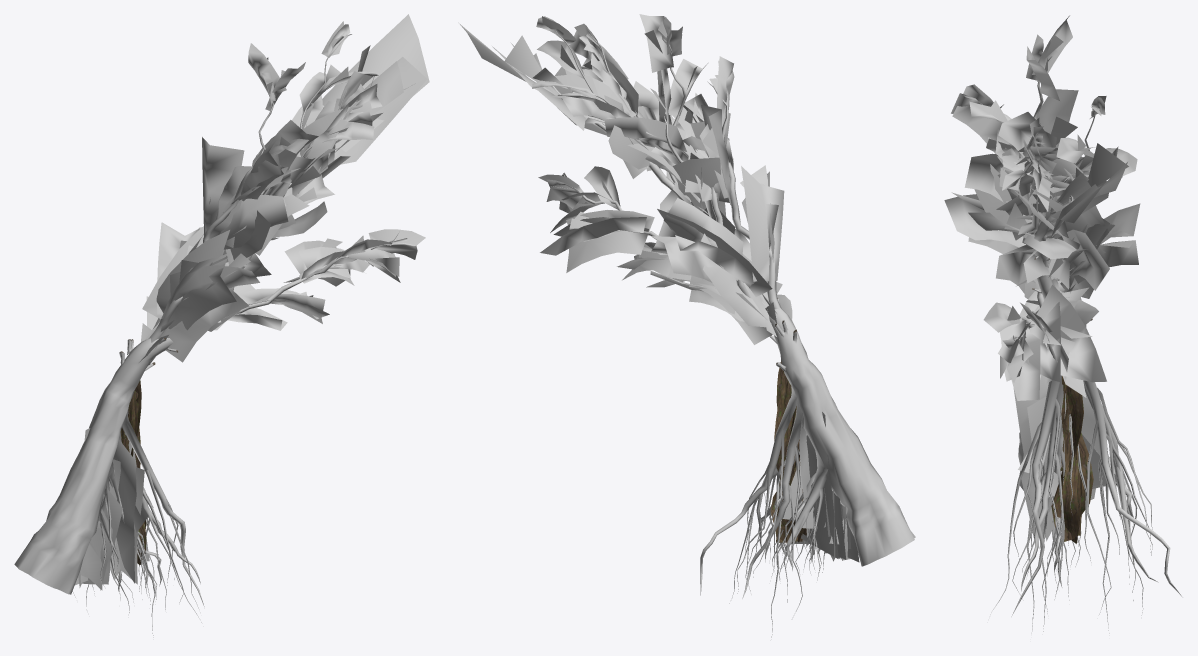
The model's file is Tree_05_2_L2.fbx.
The picture shows the model from 3 angles, left to right: view 1: azimuth 30°, elevation 25°; view 2: azimuth 150°, elevation 25°; view 3: azimuth 270°, elevation 25°; orthographic projection. The views are drawn at different scales.
Visible parts, largest first — view 1: polySurface2335; view 2: polySurface2335; view 3: polySurface2335.
Boxes of the visible parts, x1=… form: polySurface2335: x1=14, y1=14, x2=429, y2=637; polySurface2335: x1=458, y1=14, x2=915, y2=637; polySurface2335: x1=944, y1=15, x2=1182, y2=635.
Size of the model in its own units: 1024 by 1312 by 414.
